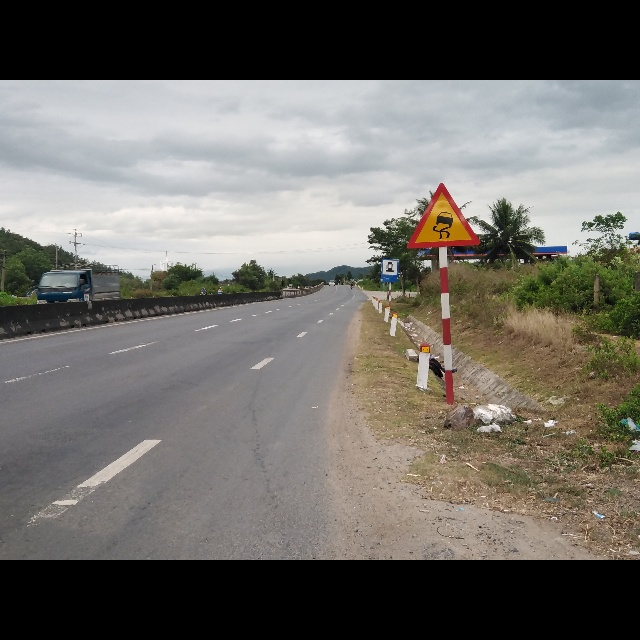Đường trơn trượt: (406, 180, 480, 247)
